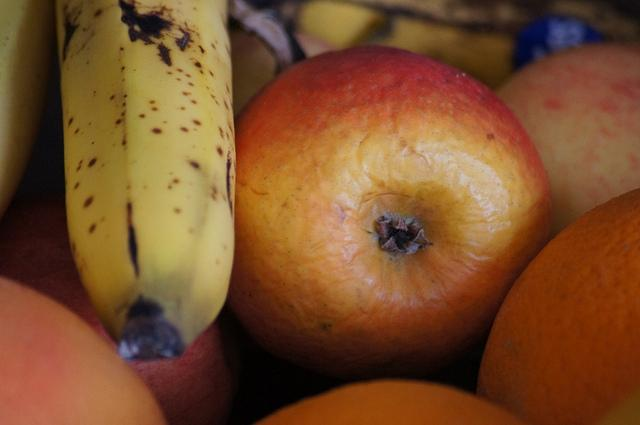apple: (226, 48, 554, 384), (0, 170, 242, 425), (476, 191, 638, 424), (498, 44, 638, 242), (0, 276, 166, 425), (256, 378, 524, 424)
banana: (55, 0, 238, 362), (279, 1, 520, 92), (0, 0, 56, 223)
